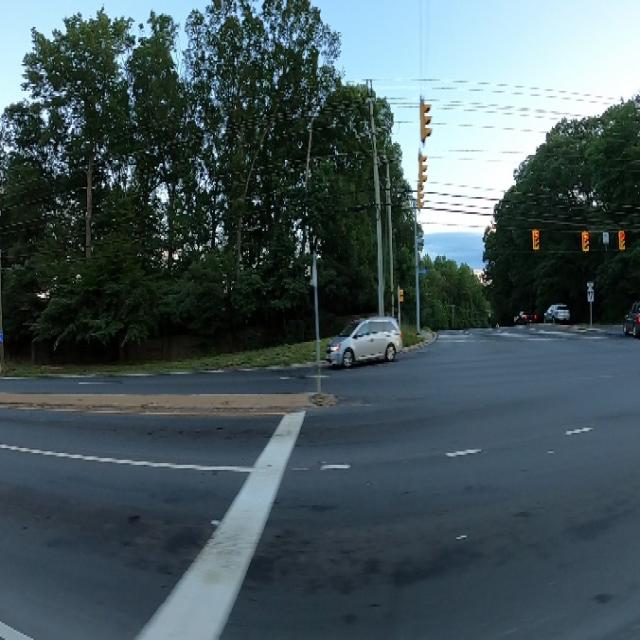car: (316, 300, 405, 376)
